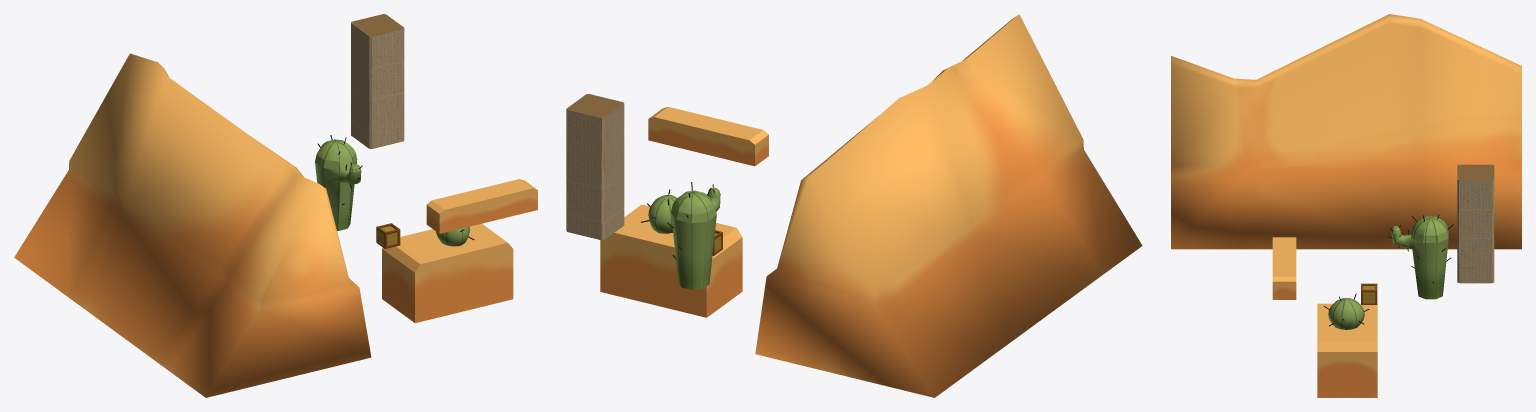
The model's file is desert.fbx.
3 views of the same model, side by side, from view 1: azimuth 30°, elevation 25°; view 2: azimuth 150°, elevation 25°; view 3: azimuth 270°, elevation 25° (orthographic). The views are drawn at different scales.
Parts seen in each view (by area): view 1: dessert, ground, slide, float, cactus1, box, jump; view 2: dessert, ground, slide, float, cactus1, jump; view 3: dessert, ground, slide, cactus1, float, jump, box.
Part boxes in pixels (bbox=[...]): dessert: bbox=[14, 53, 371, 397]; ground: bbox=[382, 223, 513, 323]; slide: bbox=[351, 14, 404, 148]; float: bbox=[426, 179, 537, 233]; cactus1: bbox=[315, 135, 362, 230]; box: bbox=[376, 223, 400, 248]; jump: bbox=[435, 226, 474, 246]; dessert: bbox=[755, 14, 1142, 397]; ground: bbox=[600, 204, 742, 317]; slide: bbox=[566, 94, 624, 240]; float: bbox=[648, 106, 768, 166]; cactus1: bbox=[667, 182, 720, 289]; jump: bbox=[641, 189, 677, 233]; dessert: bbox=[1171, 14, 1521, 249]; ground: bbox=[1317, 303, 1377, 397]; slide: bbox=[1457, 164, 1494, 283]; cactus1: bbox=[1388, 214, 1453, 299]; float: bbox=[1272, 237, 1296, 299]; jump: bbox=[1323, 293, 1369, 329]; box: bbox=[1361, 283, 1377, 304].
Bounding box in the file's own units: 31.68 × 21.07 × 27.16.
Materials: 1 (1 with a texture image).
